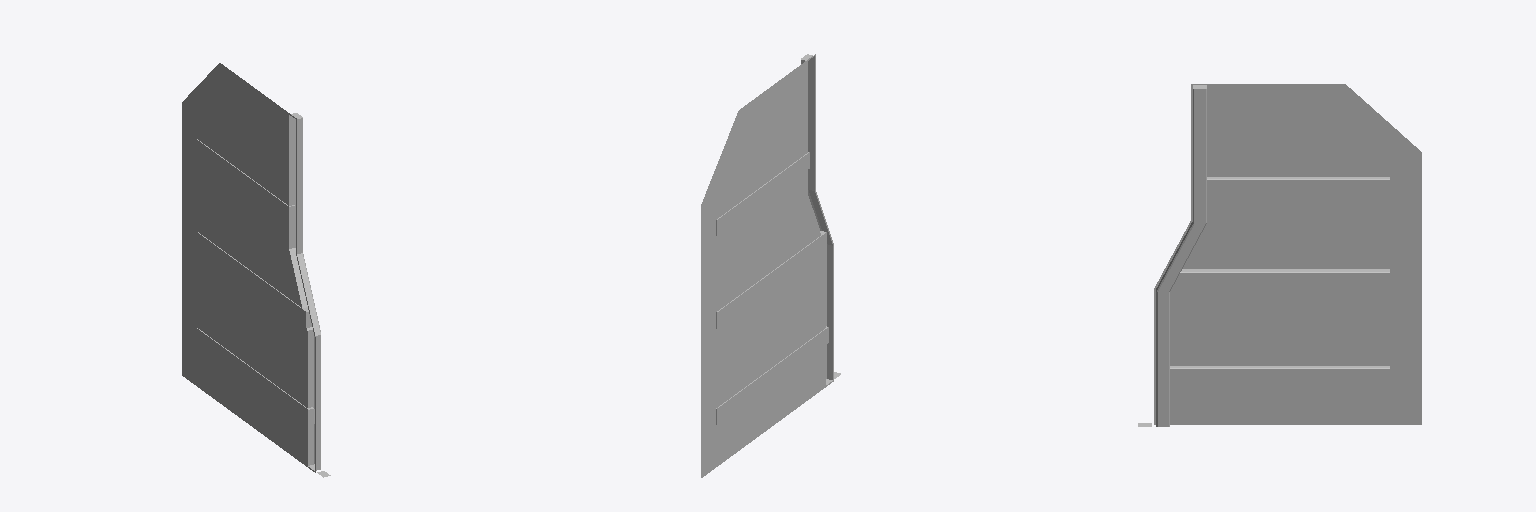
File: PuertaDerecha.obj
The picture shows the model from 3 angles: view 1: azimuth 30°, elevation 25°; view 2: azimuth 150°, elevation 25°; view 3: azimuth 270°, elevation 25°; orthographic projection.
Visible parts, largest first — view 1: Plane.003; view 2: Plane.003; view 3: Plane.003.
Part boxes in pixels (bbox=[...]): Plane.003: bbox=[182, 63, 330, 477]; Plane.003: bbox=[701, 54, 840, 477]; Plane.003: bbox=[1138, 84, 1421, 426].
Bounding box in the file's own units: 0.079 × 3 × 2.26.